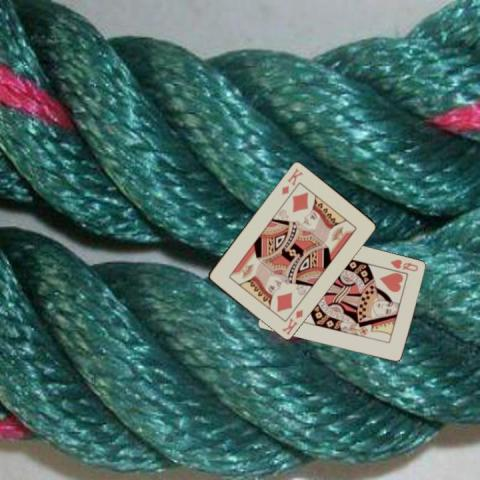Kd: (278, 299, 304, 336), (278, 165, 304, 196)
Qh: (387, 256, 419, 272)
